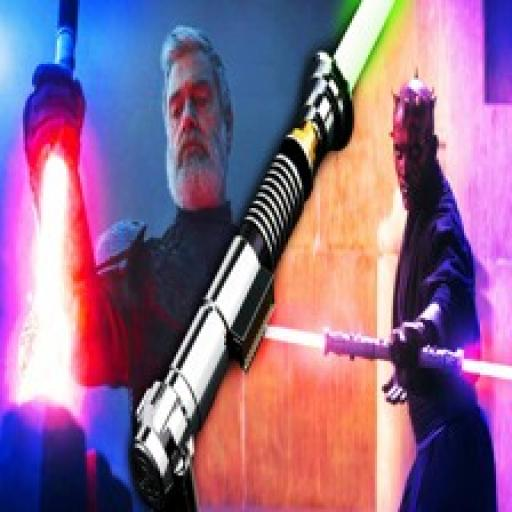lightsaber: (123, 0, 398, 501)
sith saber: (17, 0, 86, 412), (263, 325, 512, 387)
